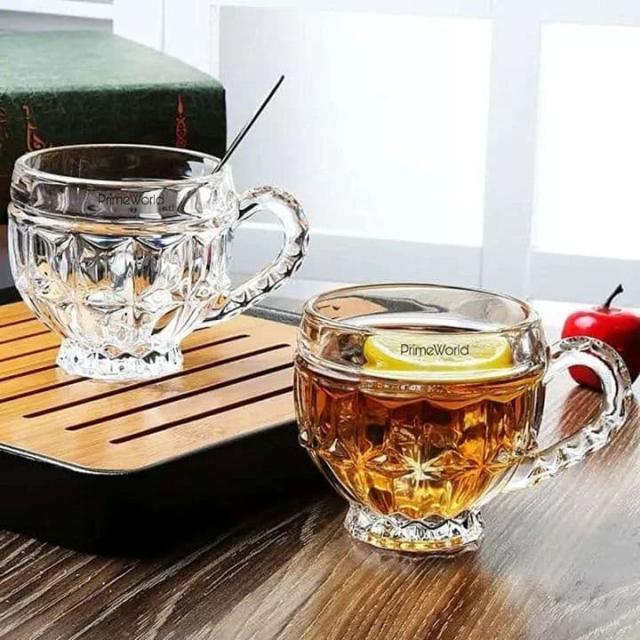glass: (19, 35, 635, 603), (275, 253, 626, 567), (13, 131, 327, 386)
